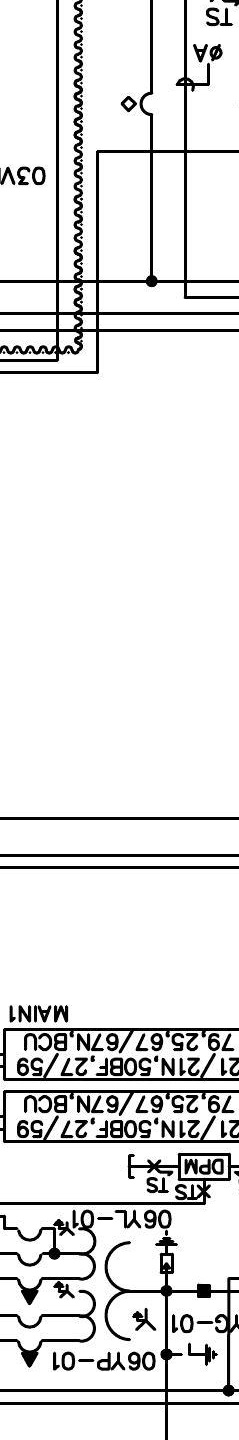115_gs: (178, 1342, 219, 1367)
115_la: (154, 1229, 179, 1274)
115_vt_3p: (16, 1218, 157, 1369)
DPM: (178, 1153, 231, 1181)
